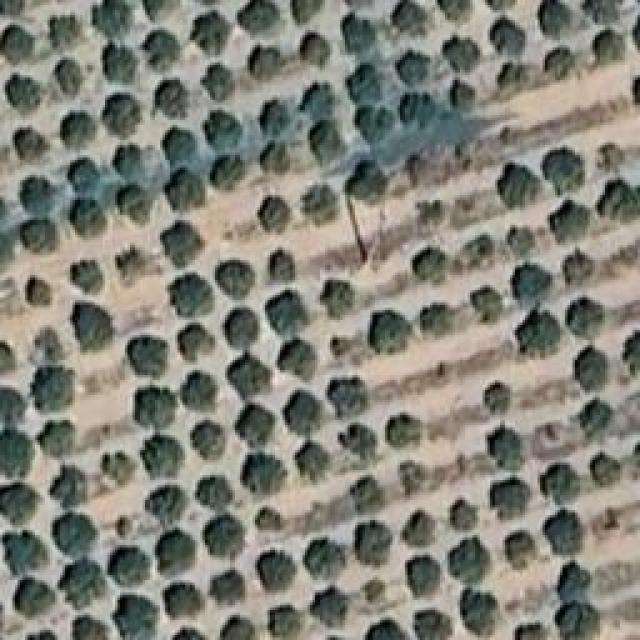Tree: (343, 158, 397, 212), (28, 365, 78, 421), (0, 528, 55, 578), (365, 308, 417, 360), (300, 535, 350, 587), (293, 443, 343, 493), (345, 60, 394, 110), (145, 480, 195, 529), (298, 180, 344, 233), (38, 418, 89, 464), (543, 143, 588, 194), (570, 335, 617, 383), (13, 570, 58, 620), (100, 40, 144, 91), (265, 293, 313, 339), (150, 528, 196, 576), (255, 545, 300, 594), (213, 308, 260, 354), (58, 558, 106, 603), (240, 455, 289, 499), (253, 140, 303, 183), (205, 515, 247, 566), (325, 375, 372, 420), (135, 430, 180, 477), (565, 295, 609, 343), (113, 542, 161, 586), (542, 460, 585, 509), (68, 305, 114, 350), (173, 270, 219, 315), (130, 385, 176, 430), (188, 415, 232, 462), (155, 222, 203, 265), (313, 120, 357, 166), (215, 257, 261, 301), (170, 323, 216, 367), (208, 567, 254, 611), (342, 5, 385, 52), (282, 388, 324, 436), (513, 308, 558, 352), (353, 520, 397, 565), (310, 585, 354, 630), (118, 593, 162, 638), (150, 80, 193, 126), (277, 335, 320, 381), (225, 357, 273, 398), (183, 12, 232, 52), (43, 7, 87, 51), (352, 108, 395, 153), (93, 450, 138, 493), (446, 535, 488, 581), (490, 420, 531, 467), (345, 470, 388, 514), (165, 575, 208, 619), (55, 105, 97, 150), (485, 475, 530, 517), (455, 585, 500, 627), (0, 480, 45, 522), (238, 400, 278, 447), (160, 170, 203, 213), (253, 97, 297, 139), (410, 245, 452, 289), (305, 78, 343, 126), (558, 603, 607, 640), (457, 233, 500, 275), (495, 165, 536, 209), (597, 180, 638, 224), (547, 198, 588, 242), (235, 0, 280, 40), (18, 218, 63, 258), (180, 368, 220, 413), (382, 413, 421, 459), (45, 467, 91, 506), (0, 385, 38, 432), (88, 0, 136, 37), (200, 467, 243, 508), (206, 110, 246, 154), (405, 555, 445, 599), (110, 142, 152, 183), (125, 332, 167, 373), (480, 380, 521, 422), (577, 397, 618, 439), (395, 92, 440, 130), (545, 515, 582, 561), (320, 275, 358, 319), (442, 35, 483, 75), (510, 257, 551, 297), (557, 565, 597, 606), (414, 198, 455, 238), (57, 512, 96, 554), (70, 250, 114, 287), (112, 240, 152, 280), (160, 130, 200, 170), (502, 532, 544, 570), (396, 456, 434, 498), (0, 22, 37, 65), (15, 178, 58, 215), (587, 28, 630, 65), (0, 335, 33, 383), (495, 58, 540, 92), (100, 100, 138, 140), (268, 602, 308, 640), (337, 425, 379, 461), (0, 430, 36, 472), (412, 607, 457, 640), (587, 450, 626, 488), (200, 60, 236, 101), (145, 25, 180, 67), (10, 125, 48, 163), (537, 3, 576, 40), (50, 57, 85, 98), (205, 155, 242, 193), (470, 287, 507, 325), (405, 502, 438, 544), (258, 192, 293, 231), (450, 495, 485, 534), (392, 0, 433, 33), (418, 303, 454, 340), (3, 70, 38, 108), (542, 45, 581, 79), (595, 135, 630, 171), (248, 50, 285, 84), (115, 184, 152, 218), (135, 0, 175, 31), (65, 155, 100, 190), (73, 198, 108, 233), (494, 18, 528, 54), (450, 77, 479, 118), (568, 255, 601, 291), (250, 500, 284, 534), (358, 578, 390, 614), (218, 615, 262, 640), (398, 55, 433, 86), (507, 612, 545, 640), (75, 612, 113, 640), (298, 38, 334, 67), (20, 280, 54, 310), (282, 0, 320, 25), (268, 250, 297, 281), (620, 330, 639, 377), (580, 0, 623, 20), (436, 0, 468, 20), (485, 0, 513, 10)
